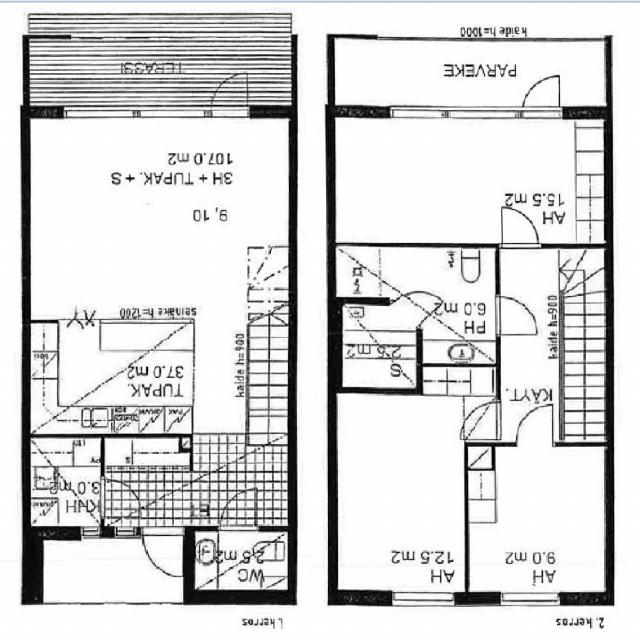door: (391, 276, 442, 327), (142, 526, 182, 574), (522, 68, 560, 118), (211, 70, 248, 118), (496, 296, 539, 334), (100, 479, 143, 516), (458, 402, 501, 439), (502, 208, 538, 247), (221, 492, 256, 531), (517, 408, 552, 447)
